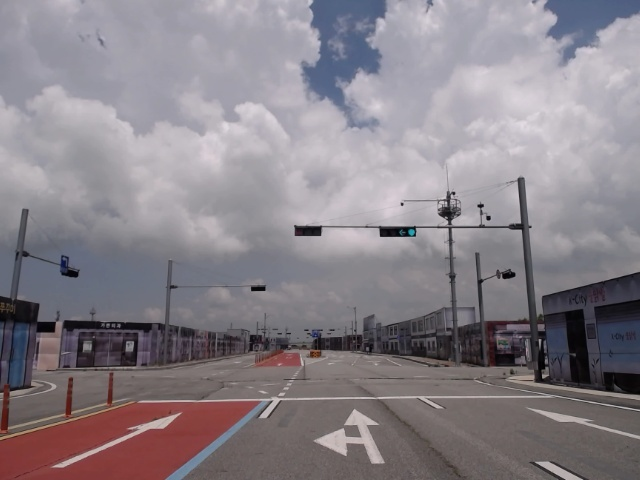all_green_4: (379, 228, 416, 237)
